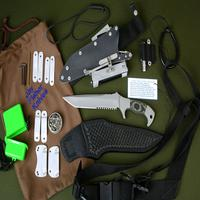knife: (55, 87, 158, 123)
